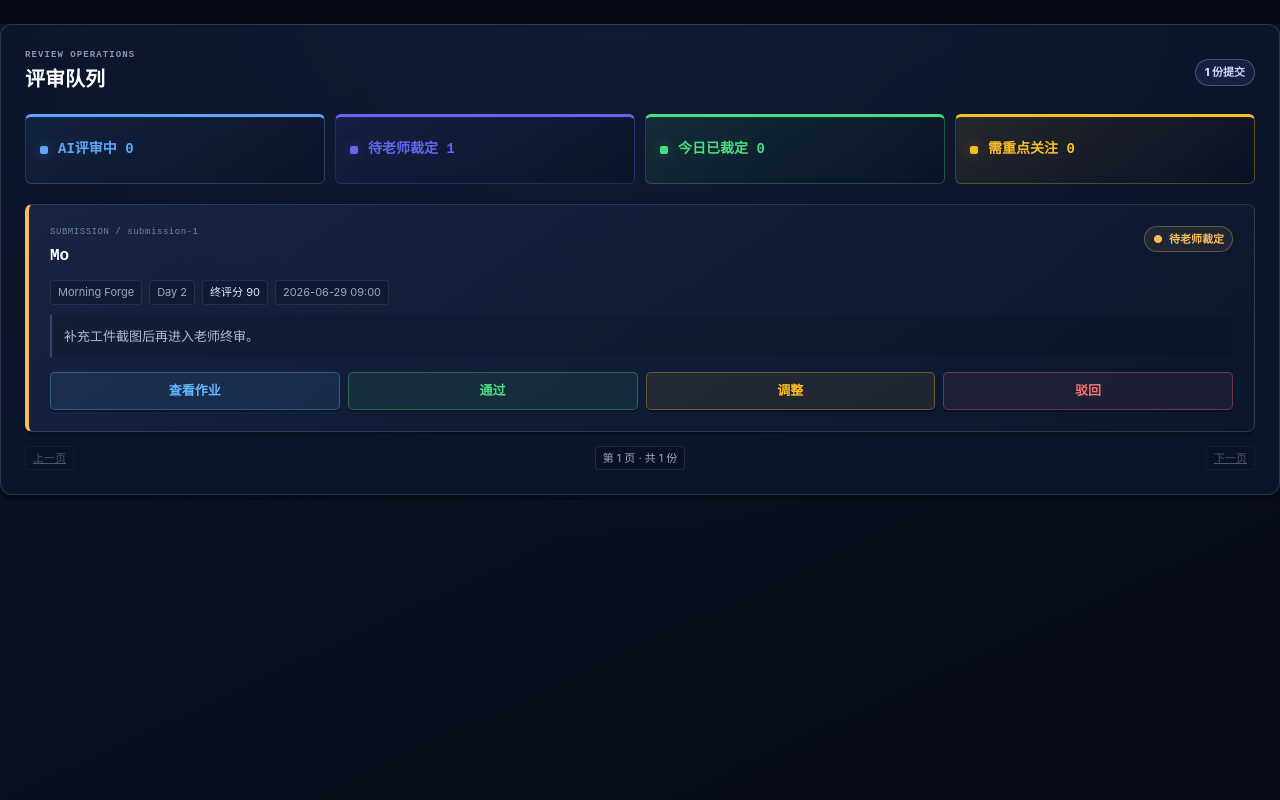
ReviewQueue › sends an approve decision when the teacher clicks 通过
The width and height of the screenshot is (1280, 800).
Check: the text "待老师裁定" is shown, box 1169,232 -> 1224,246
Click the button "通过": (493,391) 348,372 -> 638,410
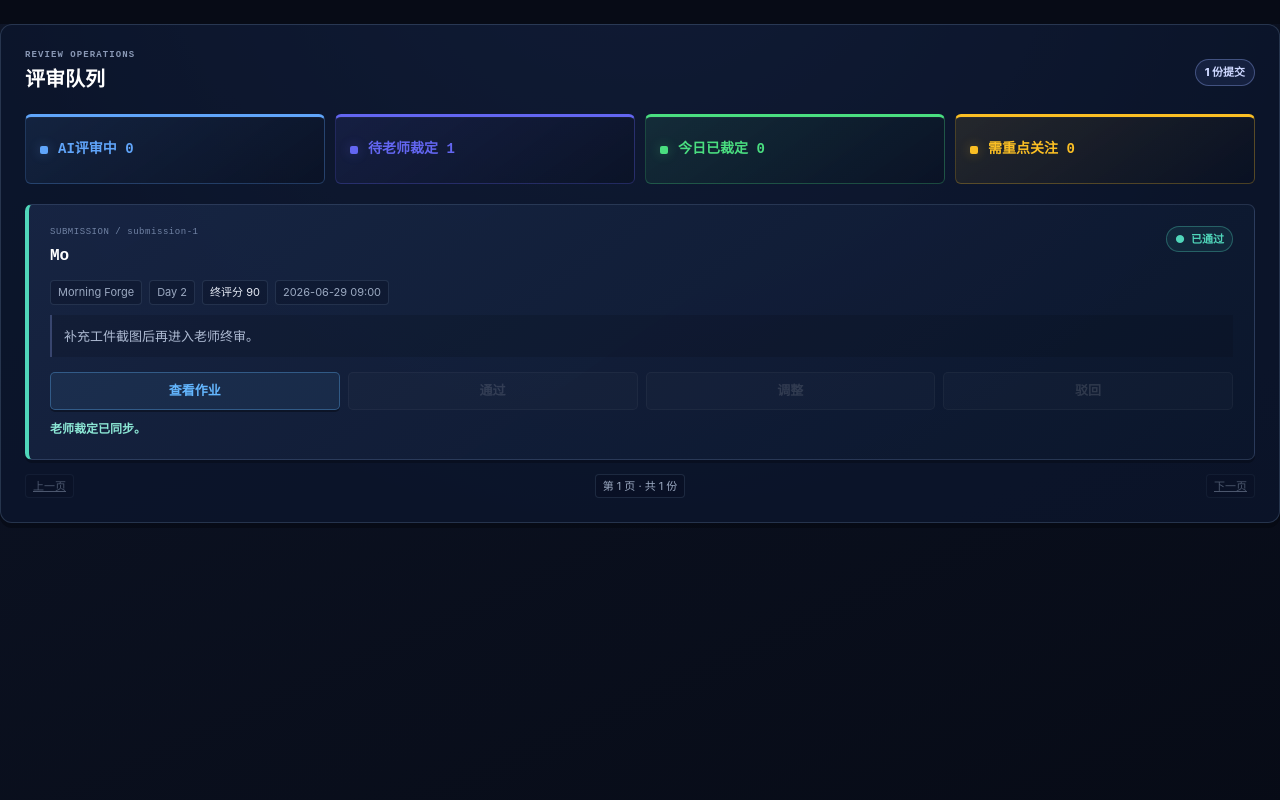
Check: the text "已通过" is shown, box 1191,232 -> 1224,246
Check: the text "老师裁定已同步。" is shown, box 50,421 -> 146,436
